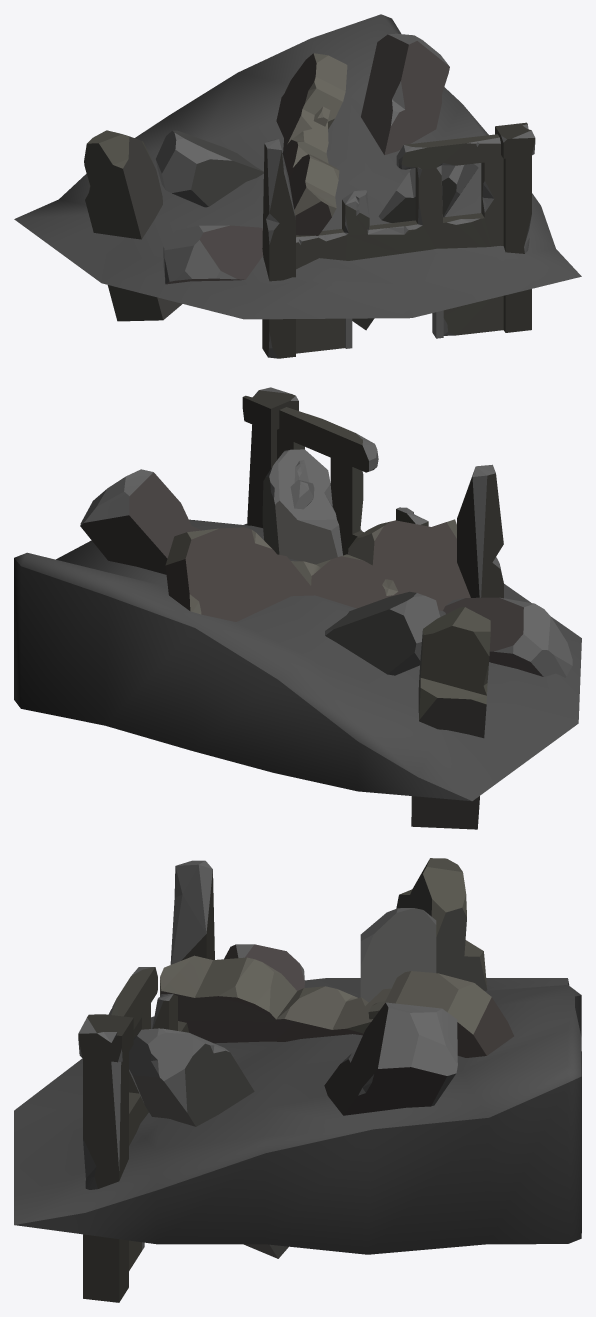
The model's file is 20C_BrokenHouse05.fbx.
The picture shows the model from 3 angles, top to bottom: view 1: azimuth 30°, elevation 25°; view 2: azimuth 150°, elevation 25°; view 3: azimuth 270°, elevation 25°; orthographic projection. The views are drawn at different scales.
Visible parts, largest first — view 1: 20C_BrokenHouse05; view 2: 20C_BrokenHouse05; view 3: 20C_BrokenHouse05.
Part boxes in pixels (x1,y1,x2,y2): 20C_BrokenHouse05: (14,14,581,358); 20C_BrokenHouse05: (14,387,581,829); 20C_BrokenHouse05: (14,858,581,1302).
Size of the model in its own units: 79.74 by 44.93 by 75.25.
